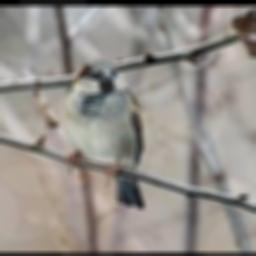Sparrow: (65, 59, 145, 209)
